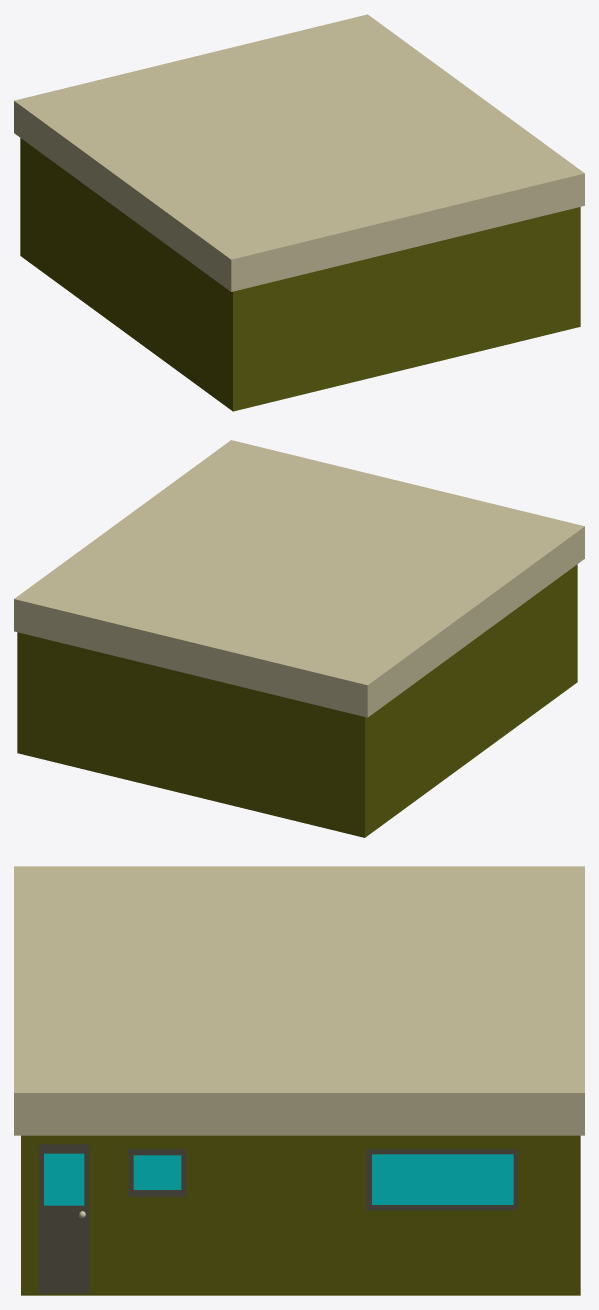
Rendered from house13.fbx.
3 views of the same model, one above another, from view 1: azimuth 30°, elevation 25°; view 2: azimuth 150°, elevation 25°; view 3: azimuth 270°, elevation 25° (orthographic). The views are drawn at different scales.
Parts seen in each view (by area): view 1: house13; view 2: house13; view 3: house13.
Part boxes in pixels (x1,y1,x2,y2): house13: (14, 14, 584, 411); house13: (14, 440, 584, 837); house13: (14, 866, 584, 1295).
Bounding box in the file's own units: 295 × 123 × 312.
